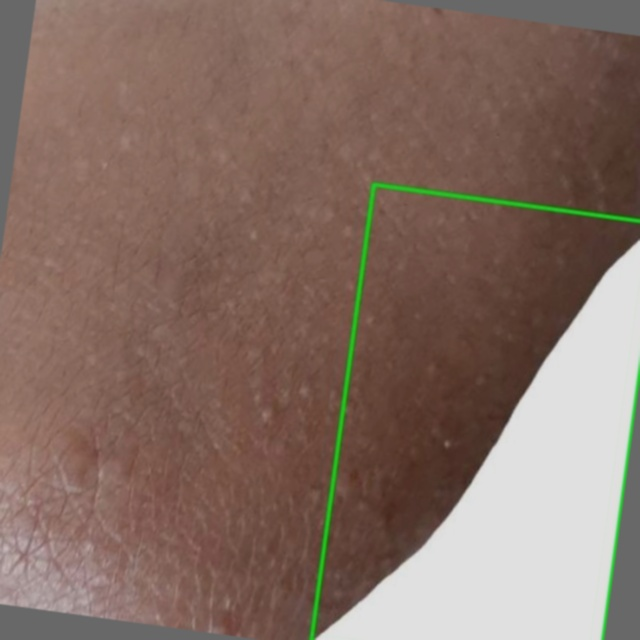Scabies: (311, 184, 639, 639)
